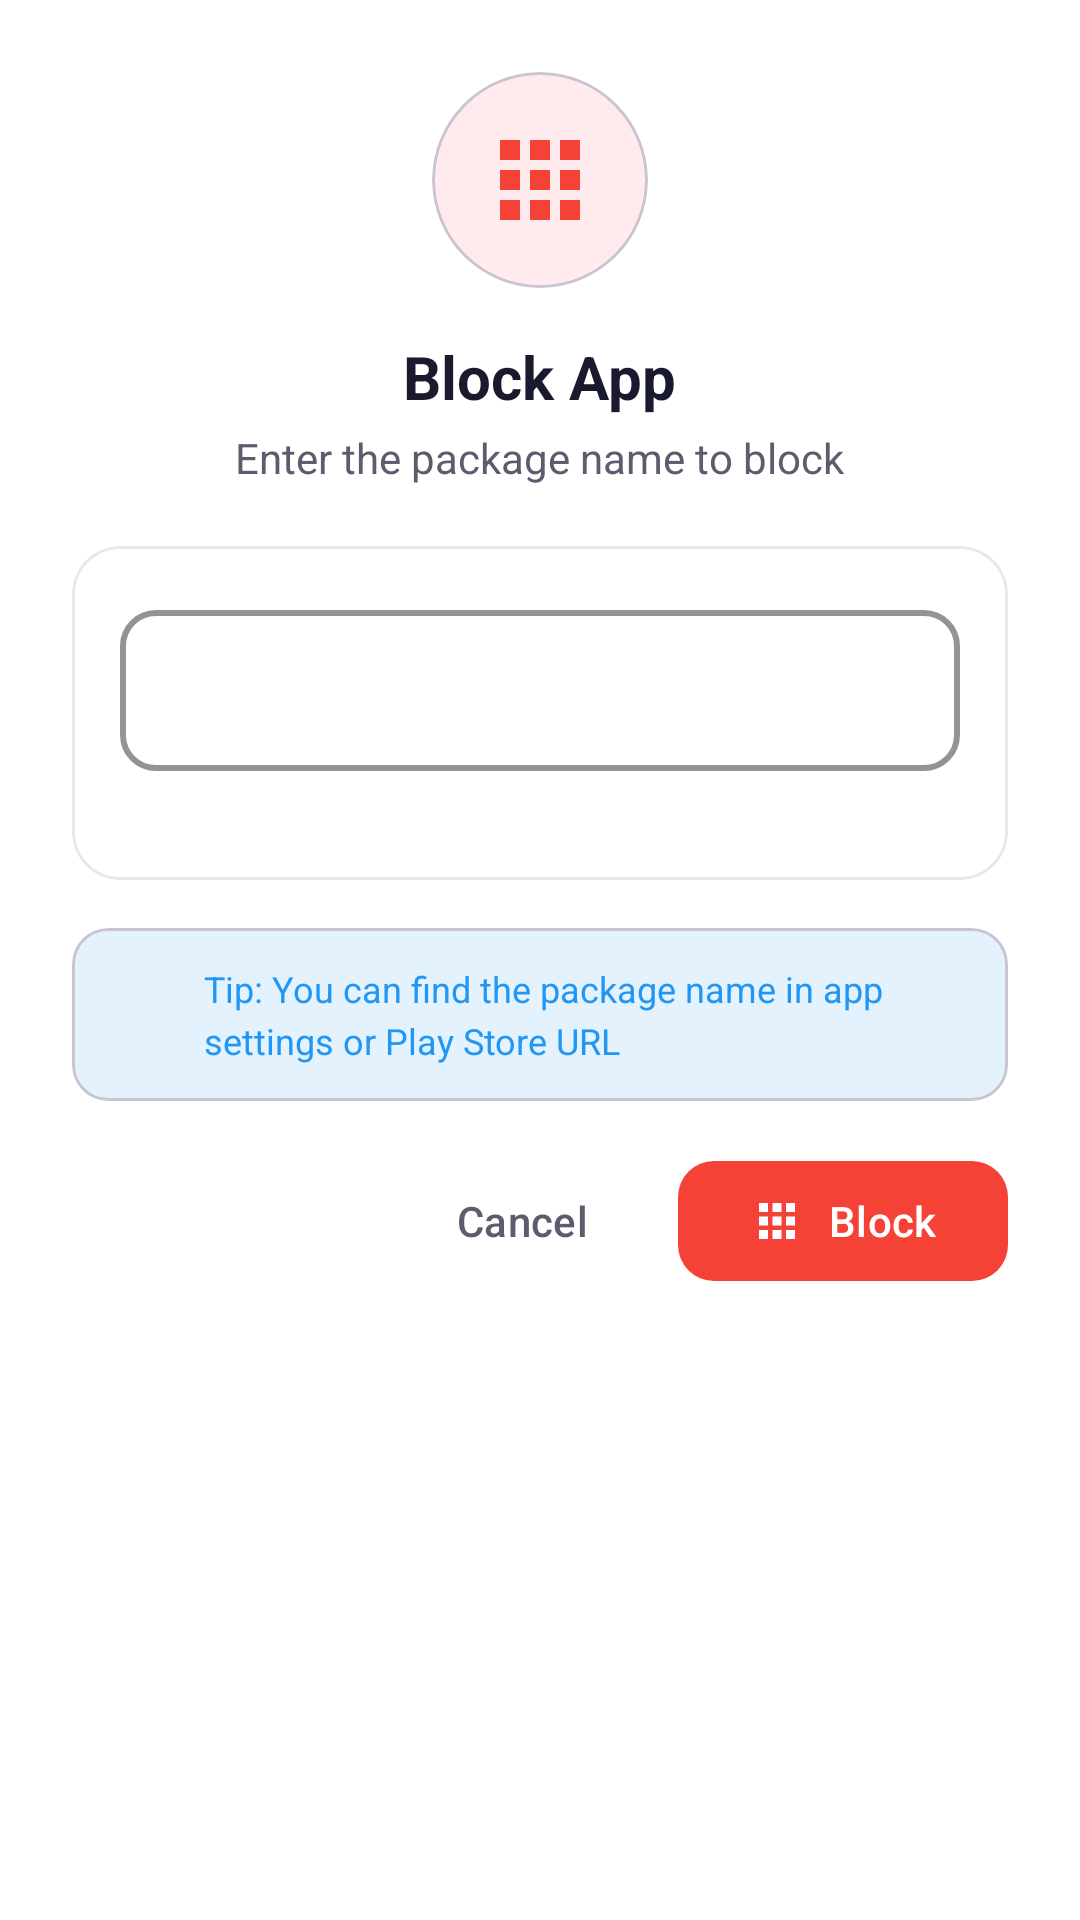

Named icons in this screenshot (1080 x 1920) and their bounding boxes, bbox=[x1, y1, x2, y2]:
apps: bbox=[500, 140, 580, 220]
